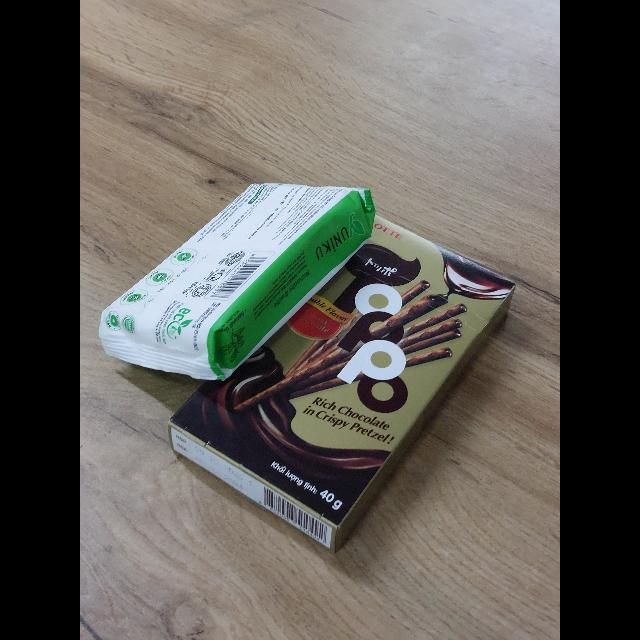banh_toppo_socola: (168, 217, 514, 555)
khan_giay: (97, 184, 377, 384)
